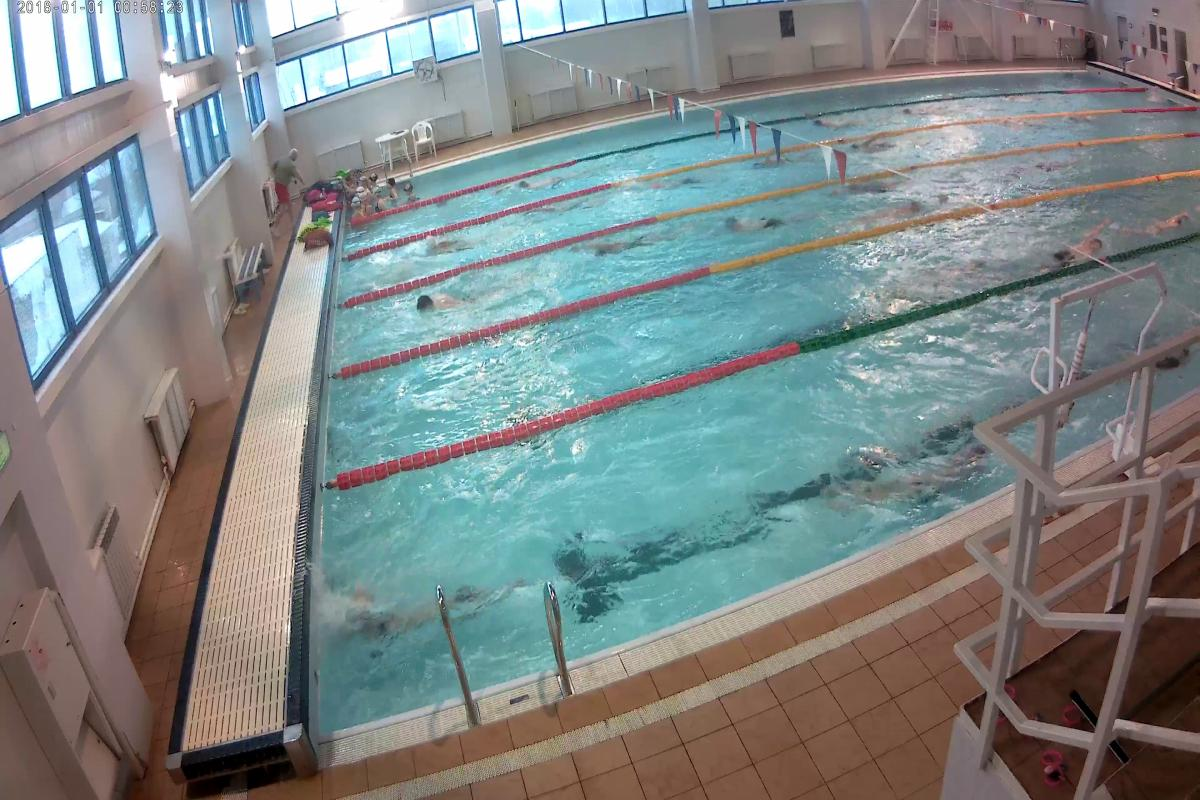swimmer: (402, 285, 492, 324), (711, 210, 811, 231), (1052, 235, 1114, 263), (592, 238, 679, 253)
